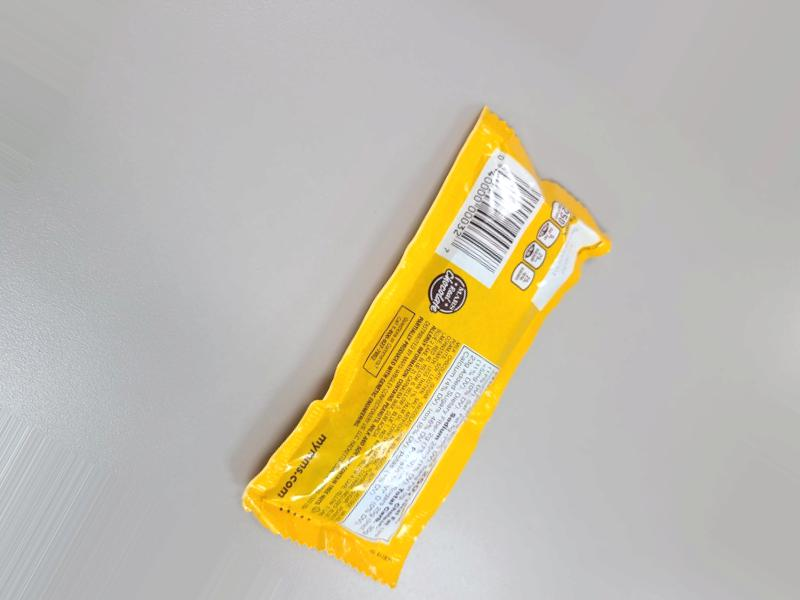m&m: (255, 130, 670, 600)
